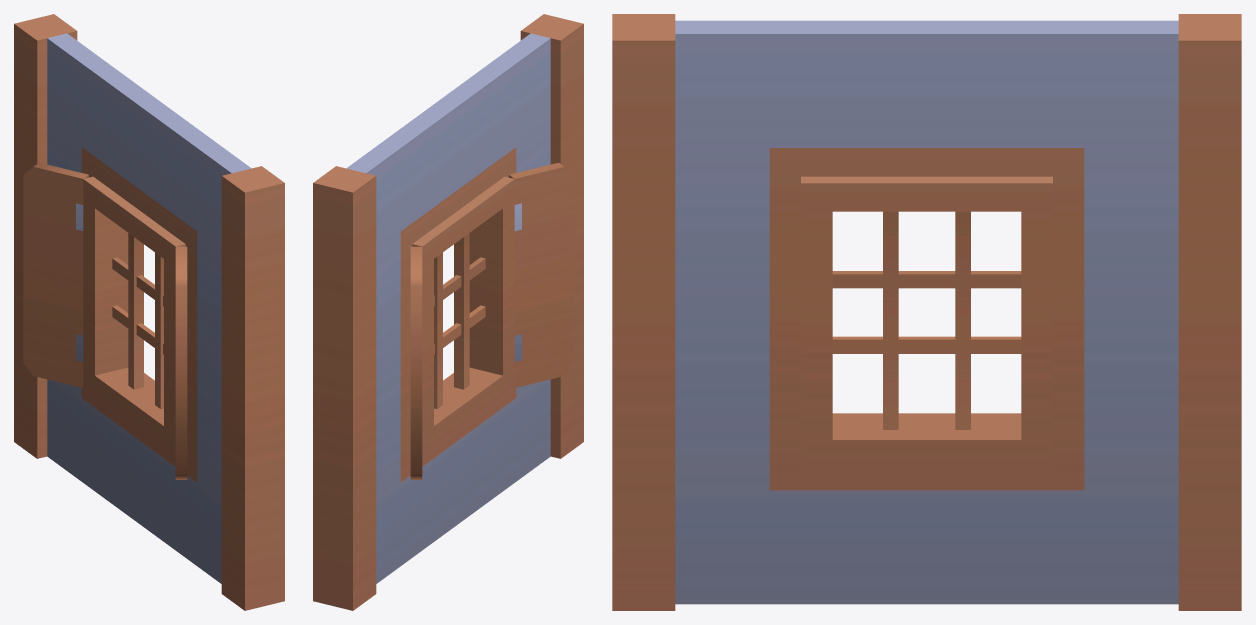
Rendered from wall-window-shutters.glb.
3 renders of one model, left to right at view 1: azimuth 30°, elevation 25°; view 2: azimuth 150°, elevation 25°; view 3: azimuth 270°, elevation 25°, orthographic. The views are drawn at different scales.
Parts seen in each view (by area): view 1: wall-window-shutters; view 2: wall-window-shutters; view 3: wall-window-shutters.
Boxes of the visible parts, left/top/right/bottom form: wall-window-shutters: left=14, top=14, right=284, bottom=610; wall-window-shutters: left=313, top=14, right=583, bottom=610; wall-window-shutters: left=612, top=14, right=1241, bottom=610.
Size of the model in its own units: 0.175 by 1 by 1.
Materials: 1 (1 with a texture image).
